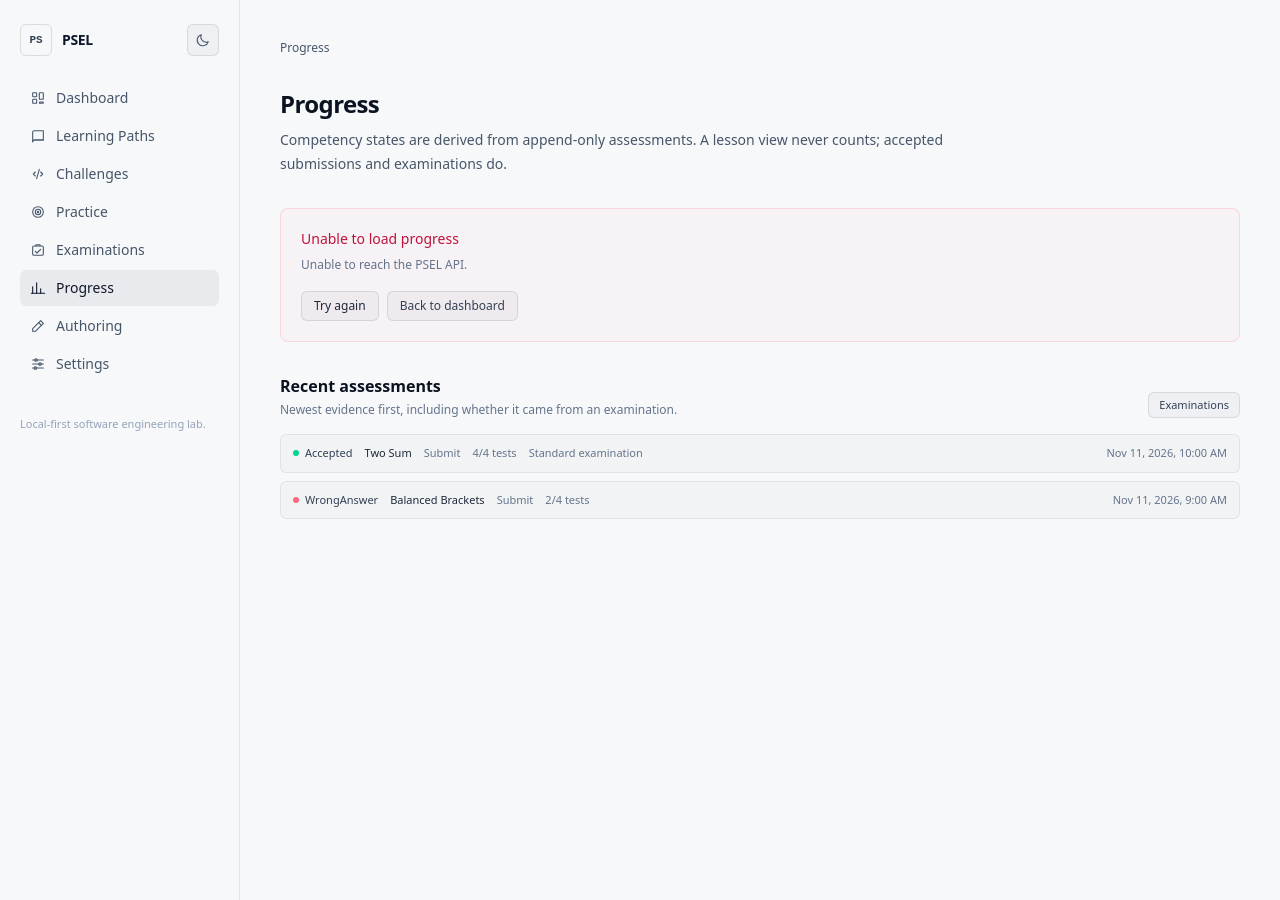
Scenario: ProgressPage › shows an error for progress and retries it
Expected: the text "Unable to load progress" is shown, [301,229,459,248]
Click the button "Try again" at (340, 306), box [301,291,379,321]
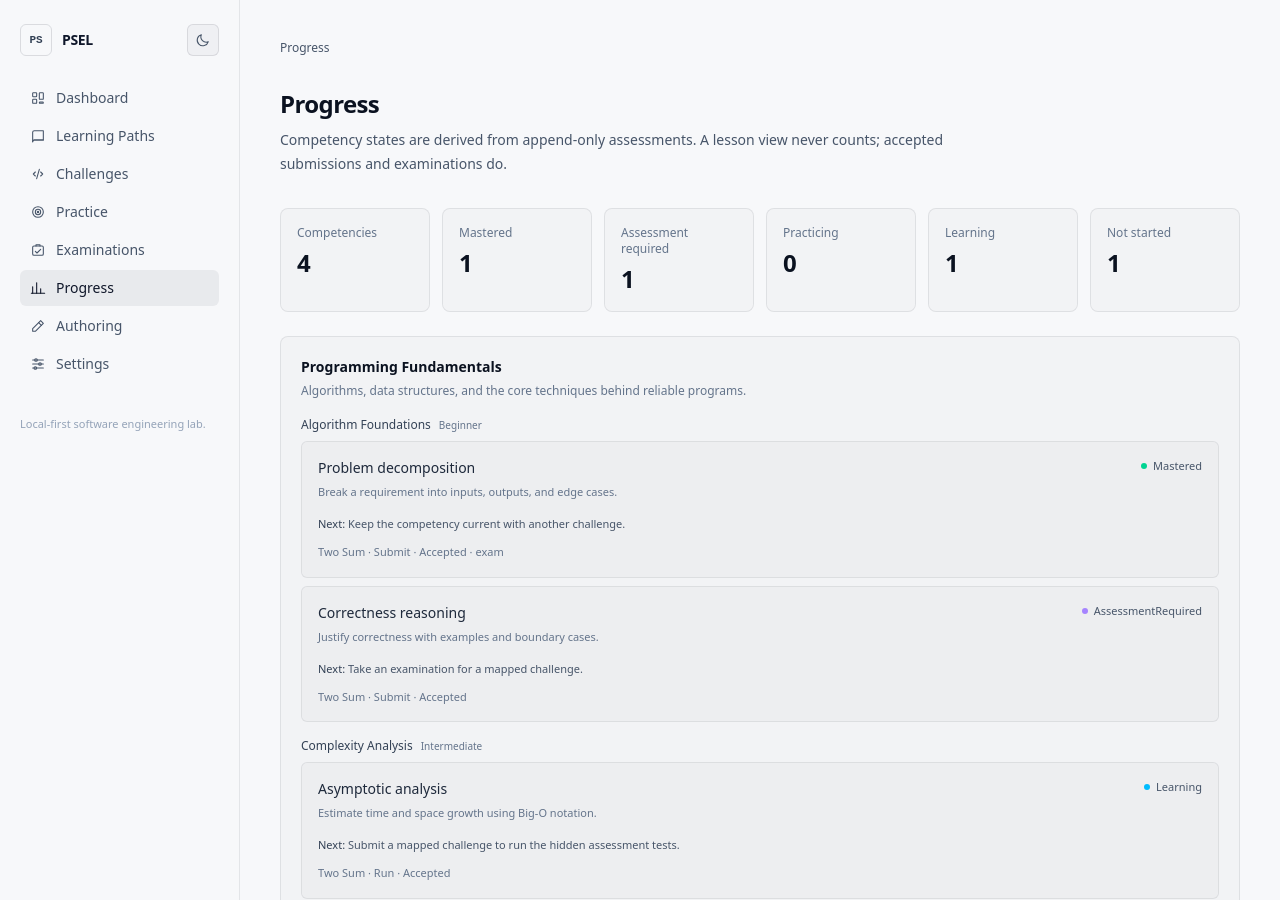
Now the text "Problem decomposition" is shown, box [318,458,475,477]
